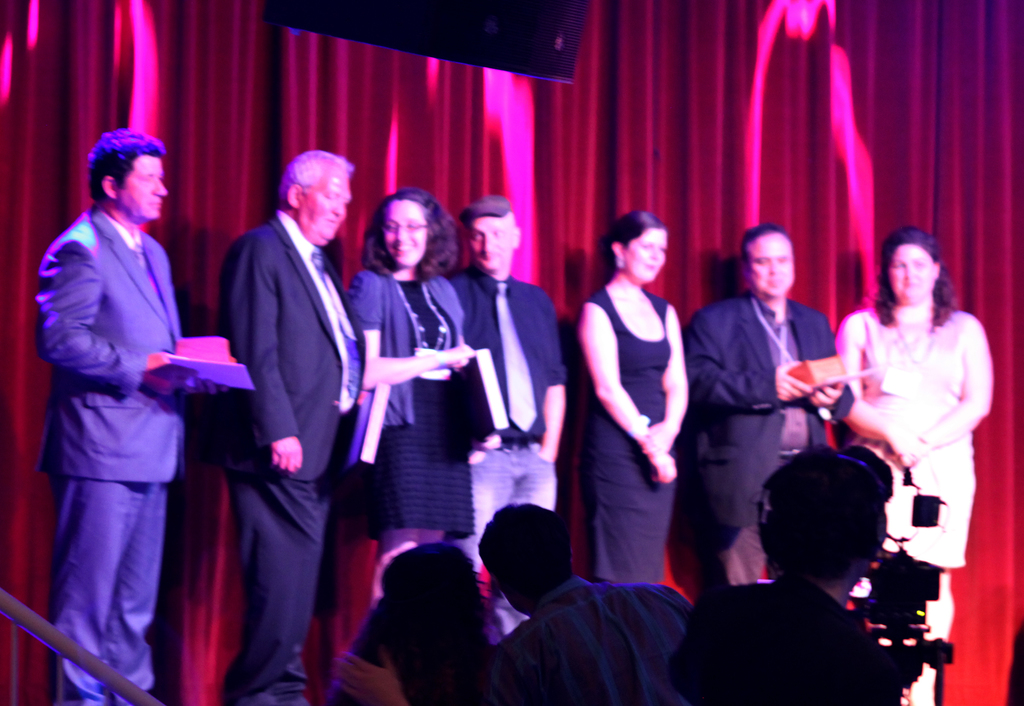Person: (32, 129, 992, 706)
